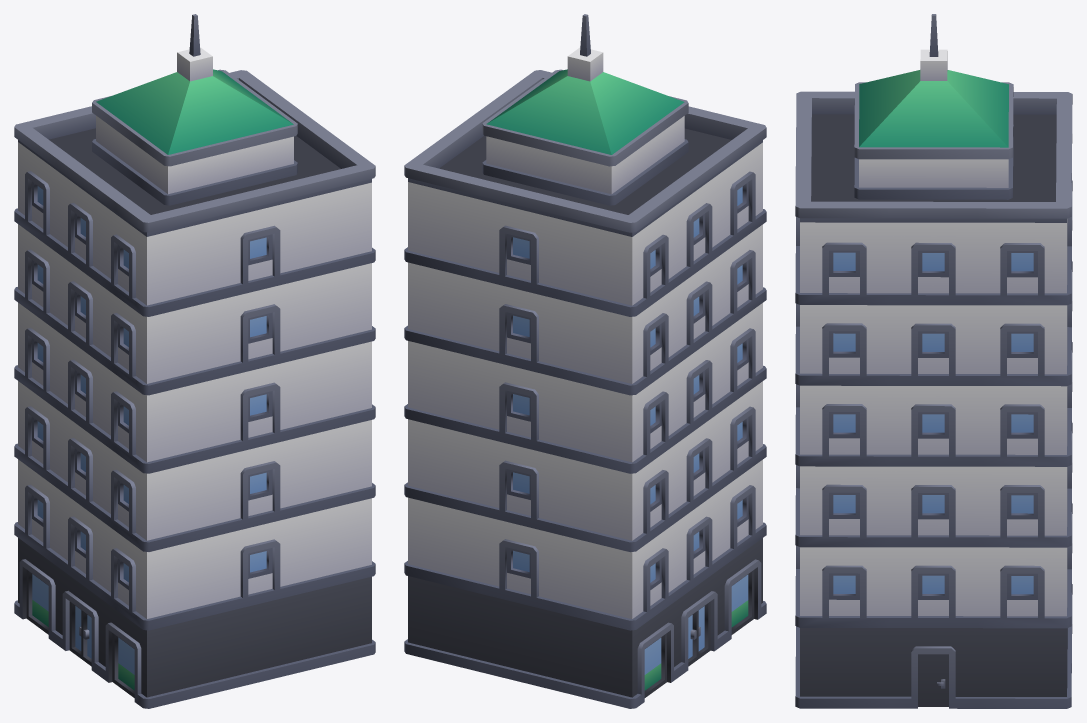
Rendered from building-m.049_lev1.glb.
3 renders of one model, left to right at view 1: azimuth 30°, elevation 25°; view 2: azimuth 150°, elevation 25°; view 3: azimuth 270°, elevation 25°, orthographic. The views are drawn at different scales.
Parts seen in each view (by area): view 1: building-m.049_lev1; view 2: building-m.049_lev1; view 3: building-m.049_lev1.
Part boxes in pixels (x1,y1,x2,y2): building-m.049_lev1: (14, 14, 375, 708); building-m.049_lev1: (404, 14, 766, 708); building-m.049_lev1: (795, 14, 1072, 708).
Size of the model in its own units: 6.22 by 15.75 by 6.22.
Materials: 1 (1 with a texture image).
